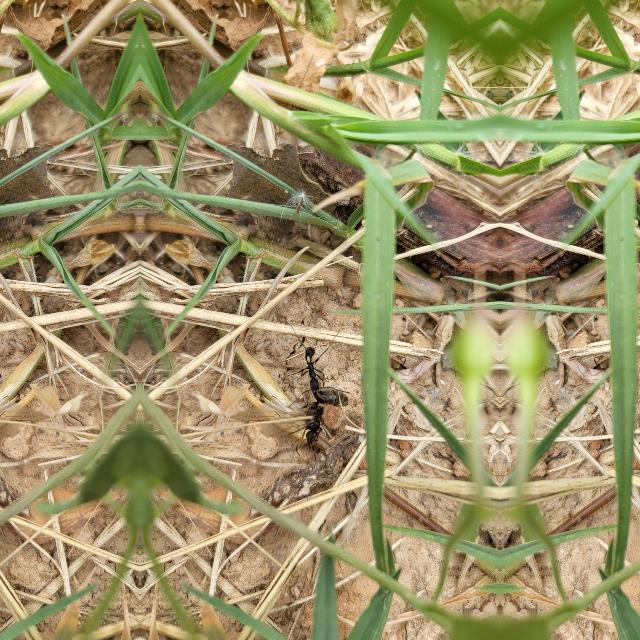Apheanogaster: (297, 380, 333, 454), (298, 337, 324, 398)
